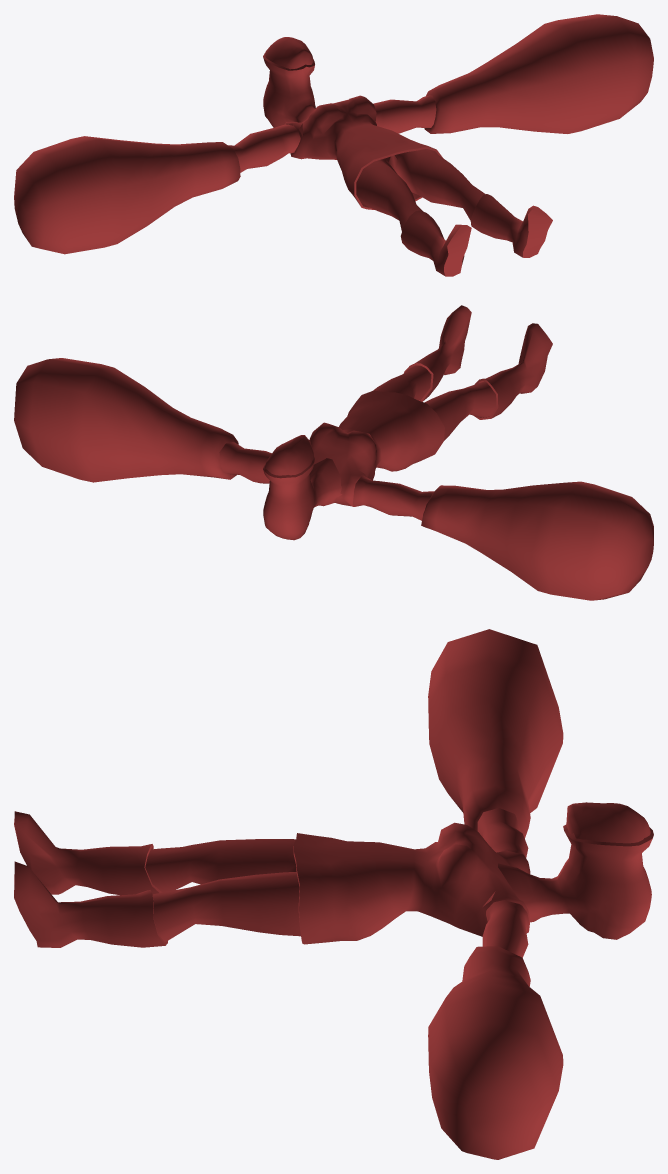
File: W_SH_Closer.FBX
3 views of the same model, one above another, from view 1: azimuth 30°, elevation 25°; view 2: azimuth 150°, elevation 25°; view 3: azimuth 270°, elevation 25° (orthographic). The views are drawn at different scales.
Parts seen in each view (by area): view 1: Object003; view 2: Object003; view 3: Object003.
Boxes of the visible parts, left/top/right/bottom form: Object003: left=14, top=14, right=653, bottom=276; Object003: left=14, top=305, right=653, bottom=600; Object003: left=14, top=629, right=653, bottom=1159.
Size of the model in its own units: 176 by 32.41 by 110.
